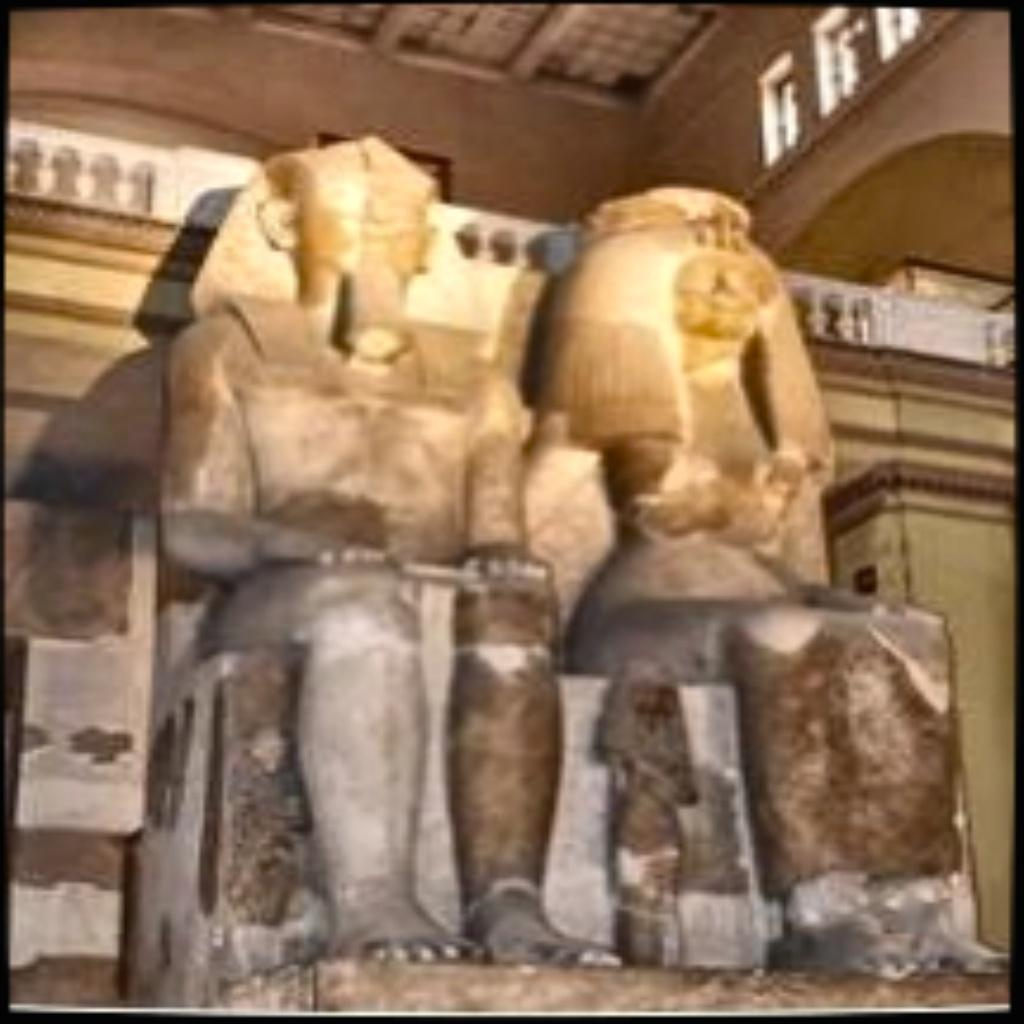Amenhotep III and Tiye: (152, 130, 991, 966)
